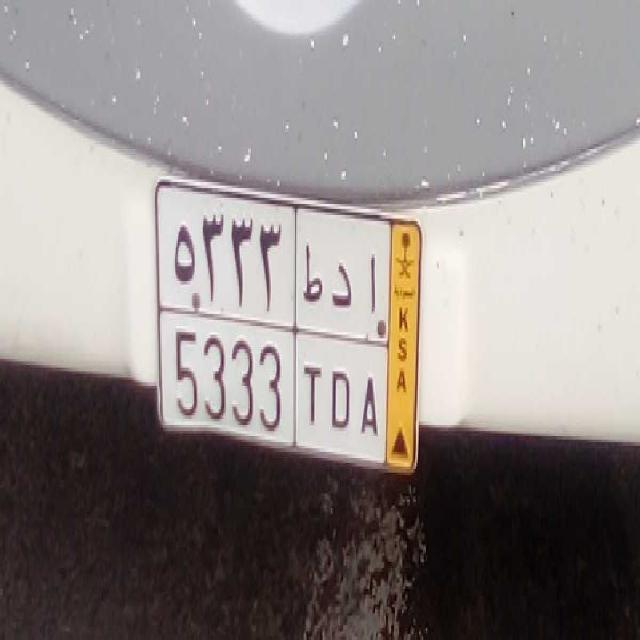license_plate: (159, 309, 385, 460)
